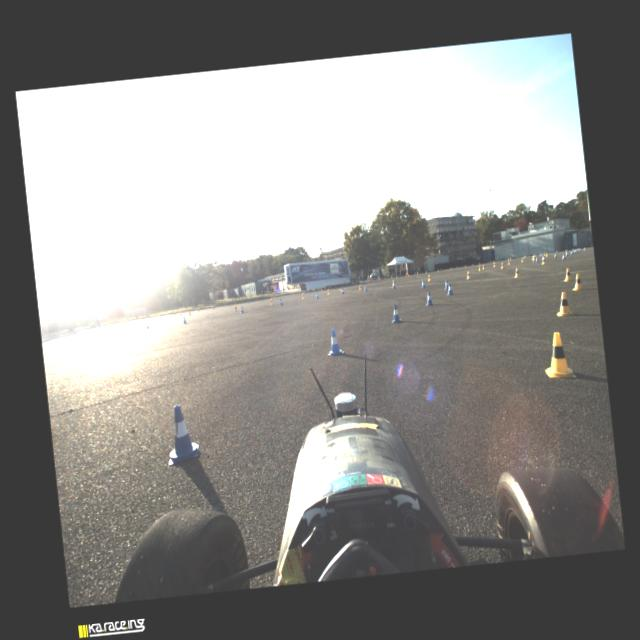blue_cone: (162, 404, 199, 466), (324, 328, 344, 357), (389, 302, 401, 322), (424, 290, 433, 305), (445, 283, 454, 295), (443, 279, 448, 289), (420, 280, 426, 288), (363, 284, 368, 291), (182, 316, 187, 323), (145, 321, 150, 328), (392, 280, 396, 288), (340, 287, 344, 294), (278, 298, 282, 305), (560, 253, 564, 260), (315, 292, 319, 298), (240, 306, 244, 312), (532, 257, 536, 262), (535, 256, 538, 262), (553, 252, 556, 258), (565, 250, 568, 256), (570, 250, 573, 254), (572, 248, 574, 252), (574, 248, 576, 252), (578, 247, 580, 251), (584, 247, 586, 251), (576, 247, 578, 251), (576, 248, 578, 250)
yellow_cone: (542, 330, 576, 381), (554, 290, 573, 318), (570, 272, 584, 290), (562, 268, 573, 282), (513, 268, 518, 278), (426, 274, 431, 282), (540, 258, 546, 264), (466, 271, 470, 279), (301, 292, 305, 298), (492, 262, 496, 267), (392, 278, 394, 288), (501, 262, 504, 268), (478, 264, 481, 270), (234, 305, 237, 311), (326, 288, 329, 294), (358, 284, 361, 290), (270, 298, 272, 304), (521, 257, 523, 262), (482, 264, 484, 269), (188, 310, 190, 315), (158, 315, 160, 320), (546, 252, 548, 256), (508, 260, 510, 264), (179, 312, 181, 316)
